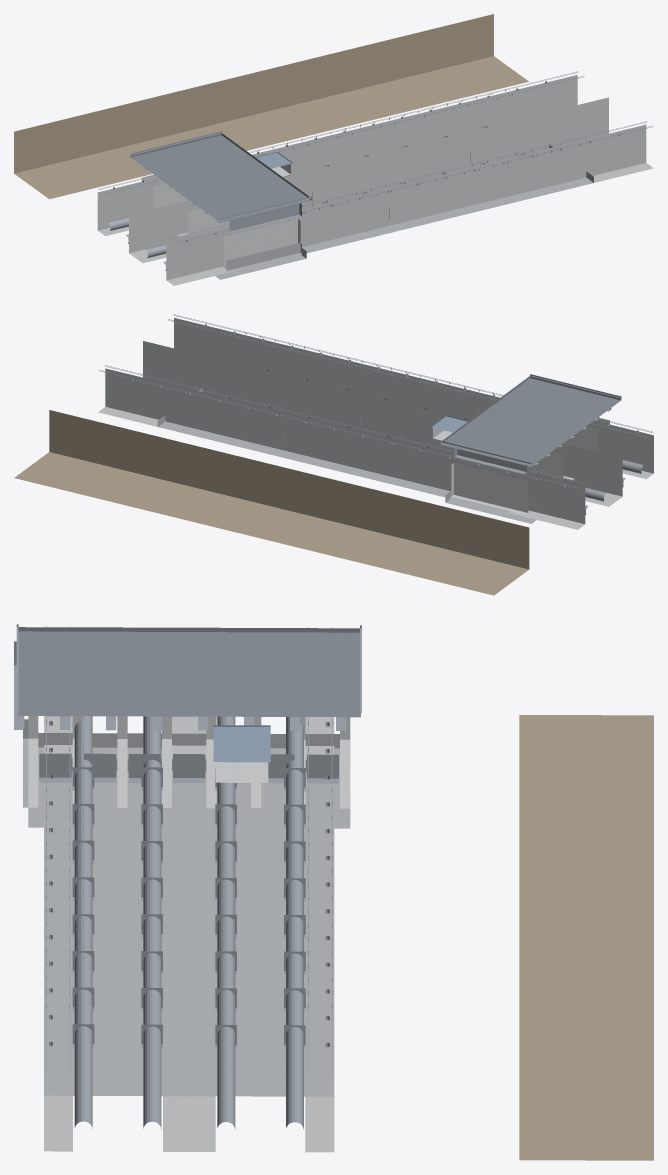
File: qingnian-z3-lock.glb
3 views of the same model, one above another, from view 1: azimuth 30°, elevation 25°; view 2: azimuth 150°, elevation 25°; view 3: azimuth 270°, elevation 25° (orthographic). The views are drawn at different scales.
Visible parts, largest first — view 1: concrete_structure, earth_structure, road_aux, steel_detail, concreteDark_structure, concreteLight_structure, steel_aux, steel_structure; view 2: concrete_structure, earth_structure, road_aux, steel_detail, concreteLight_structure, concreteDark_structure, steel_aux, steel_structure; view 3: concreteDark_structure, earth_structure, road_aux, steel_structure, concrete_structure, steel_aux, concreteLight_structure, steel_gate, steel_detail, roof_detail, concreteLight_detail.
Part boxes in pixels (x1,y1,x2,y2): concrete_structure: [97, 75, 653, 285]; earth_structure: [14, 14, 528, 199]; road_aux: [130, 133, 311, 222]; steel_detail: [98, 71, 652, 244]; concreteDark_structure: [215, 144, 593, 279]; concreteLight_structure: [141, 174, 300, 270]; steel_aux: [130, 126, 524, 220]; steel_structure: [108, 217, 166, 270]; concrete_structure: [98, 318, 653, 529]; earth_structure: [14, 410, 529, 595]; road_aux: [440, 376, 621, 466]; steel_detail: [99, 314, 653, 488]; concreteLight_structure: [451, 418, 609, 514]; concreteDark_structure: [157, 387, 536, 523]; steel_aux: [227, 369, 621, 464]; steel_structure: [585, 460, 643, 514]; concreteDark_structure: [23, 719, 350, 1096]; earth_structure: [519, 715, 653, 1160]; road_aux: [17, 627, 360, 717]; steel_structure: [74, 716, 303, 1129]; concrete_structure: [44, 716, 334, 1152]; steel_aux: [16, 624, 361, 1048]; concreteLight_structure: [28, 716, 350, 808]; steel_gate: [39, 753, 338, 783]; steel_detail: [14, 626, 346, 1074]; roof_detail: [213, 725, 270, 762]; concreteLight_detail: [215, 762, 268, 782].
Size of the model in its own units: 400 by 53.53 by 242.
7 materials, 7 textured.
